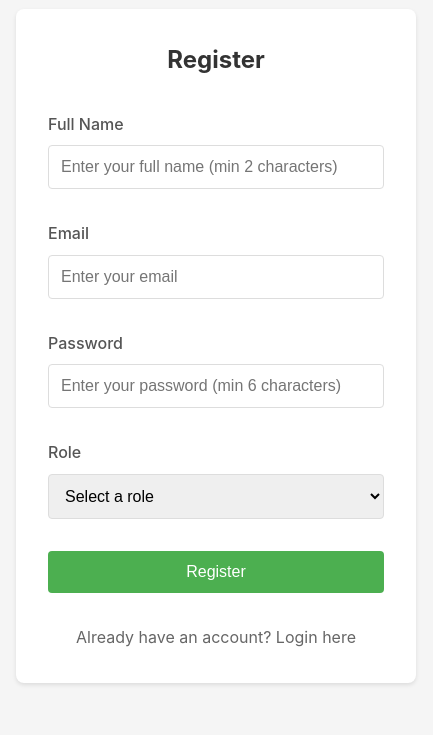
Test: Register.vue › validates role selection
Note: Fill in form without selecting role
In the field labelled "Full Name": (216, 167) 48,145 -> 384,189, type "John Doe"
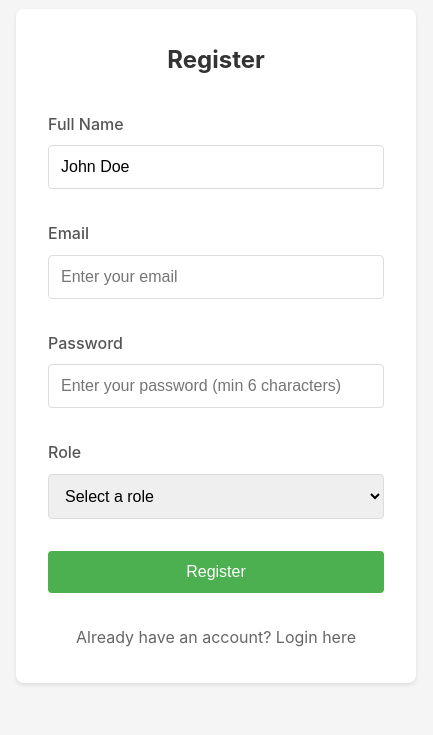
In the field labelled "Email": (216, 277) 48,255 -> 384,299, type "john@example.com"
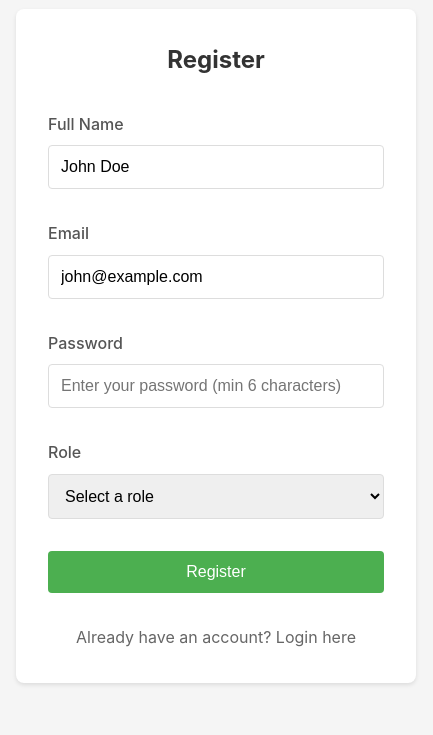
In the password field labelled "Password": (216, 386) 48,364 -> 384,408, type "password123"
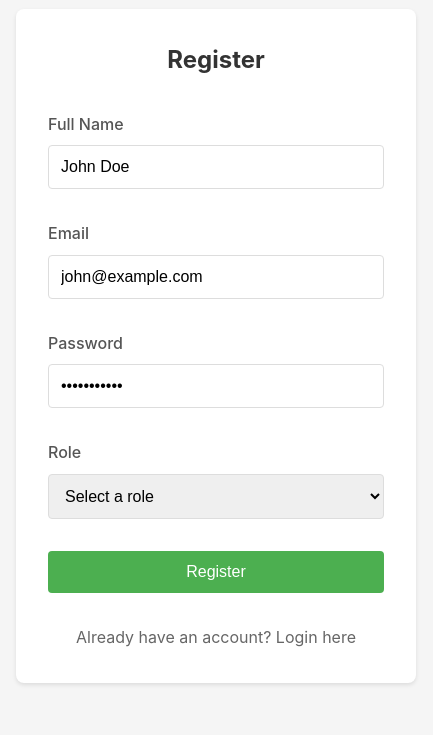
Select "Select a role" in the dropdown labelled "Role": (216, 497) 48,474 -> 384,519
Note: Submit form
Submit the form, box 48,112 -> 384,651
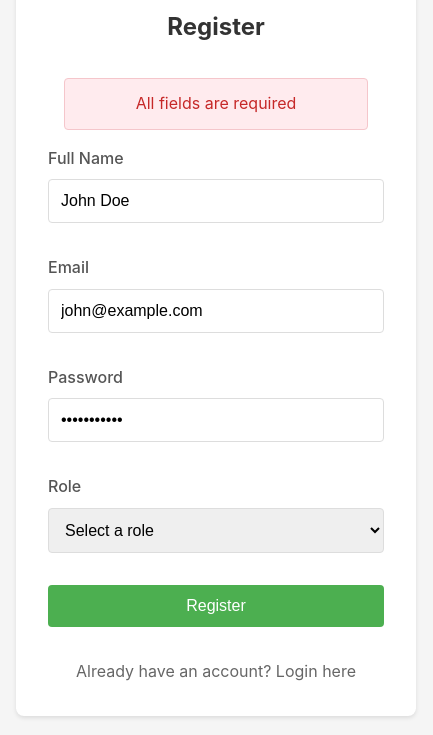
Check: the text "All fields are required" is shown, box 64,78 -> 368,130
